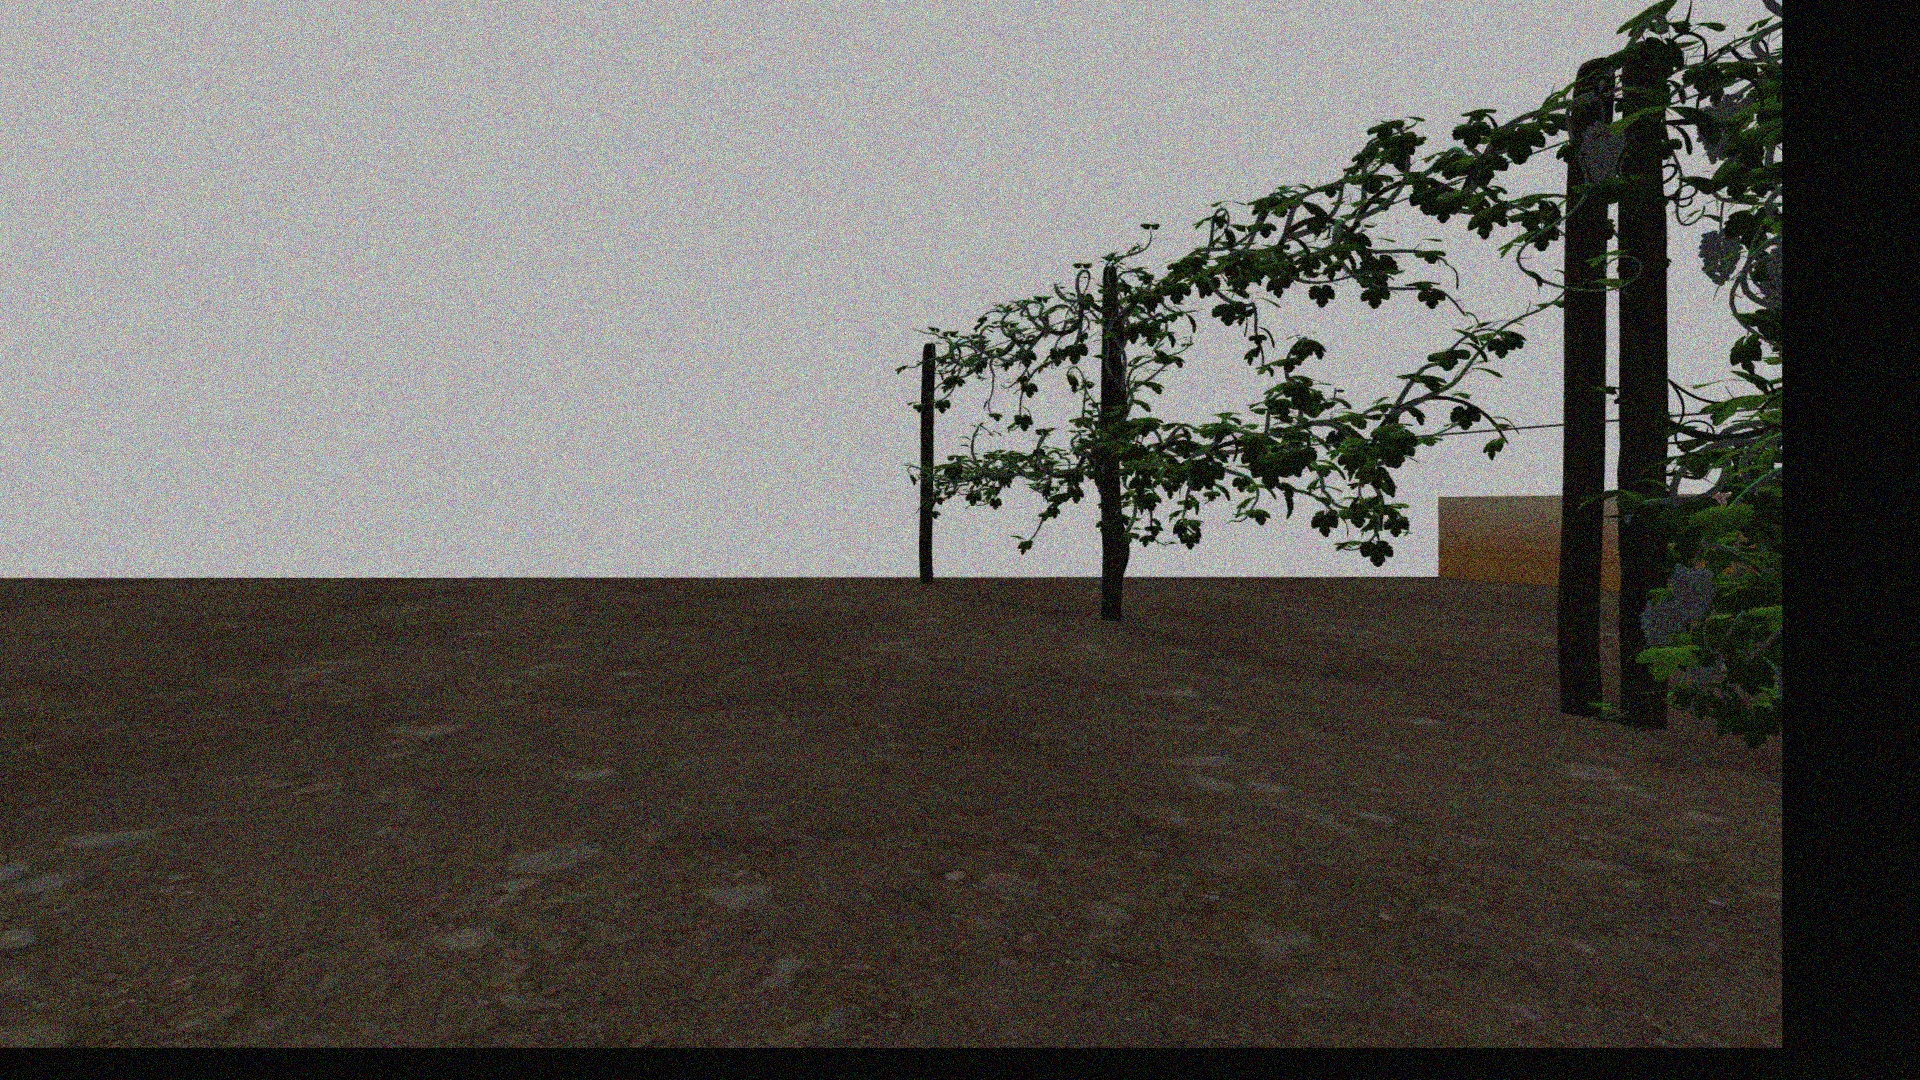grape: (1580, 123, 1627, 183), (1669, 560, 1716, 622), (1698, 228, 1743, 284), (1638, 600, 1681, 647)
